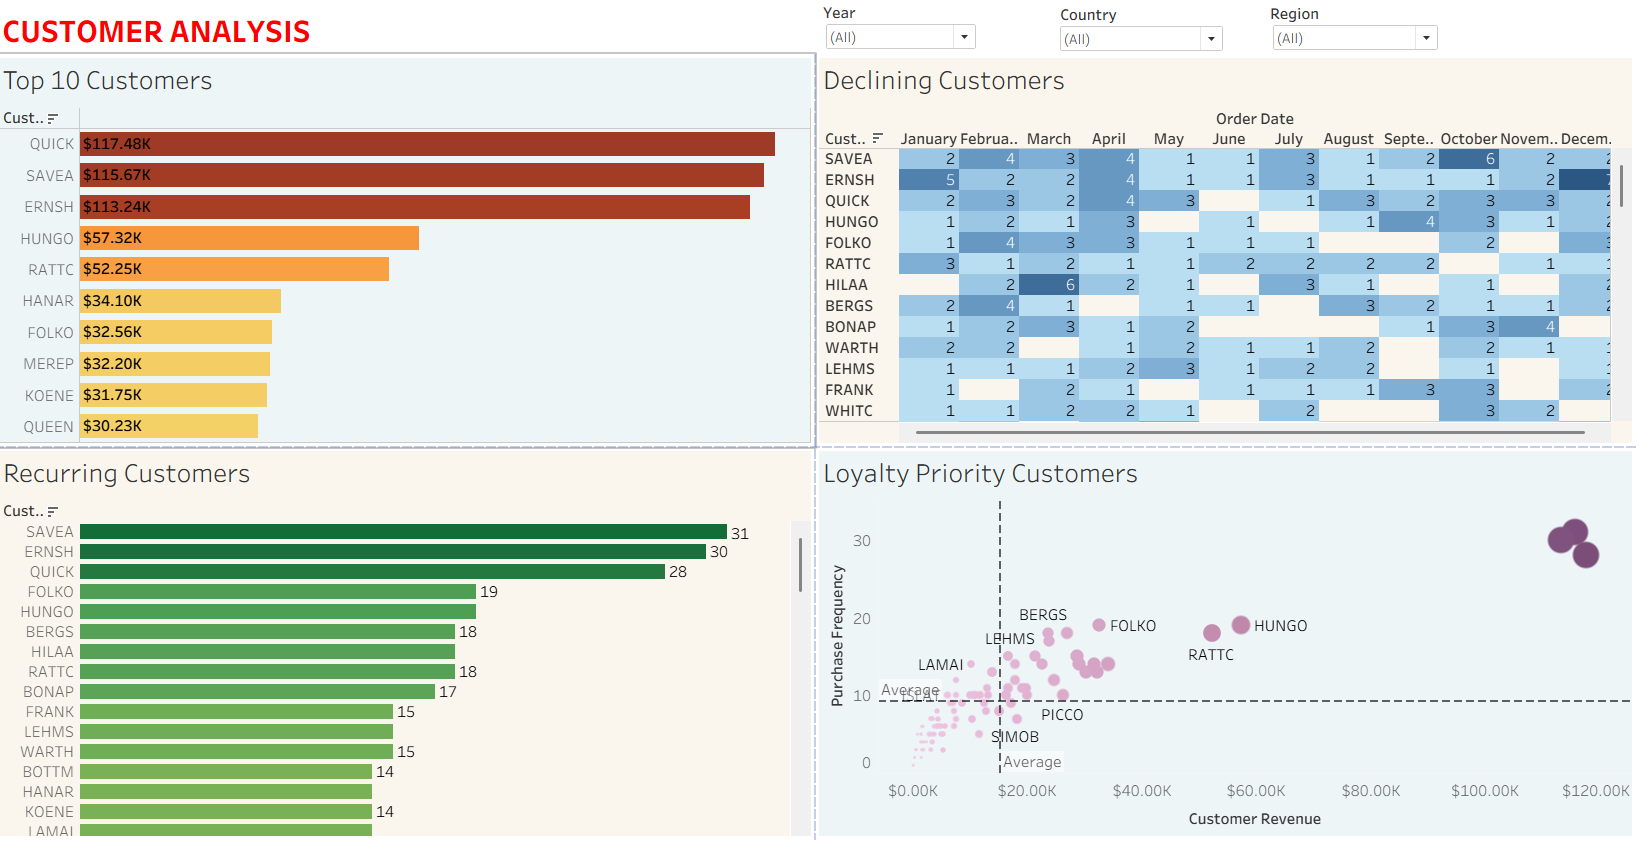

The dashboard page shown, as its layout file describes it:
{"tool":"tableau","page":{"name":"Customer Analysis","canvas":[1000,1000],"units":"permille","ordinal":0},"visuals":[{"type":"filter","title":"Top 10 Customers","param":"[federated.0fuxvor0l2khf1164kcrc0bxxkrn].[yr:order_date:ok]","box":[504.5,5.9,94.2,56.4]},{"type":"filter","title":"Loyalty Priority Customers","param":"[federated.0fuxvor0l2khf1164kcrc0bxxkrn].[none:ship_region:nk]","box":[774.3,7,103.2,56.4]},{"type":"filter","title":"Recurring Customers","param":"[federated.0fuxvor0l2khf1164kcrc0bxxkrn].[none:ship_country:nk]","box":[645.8,8.2,102,56.4]},{"type":"title","box":[4.8,9.4,990.3,57.6]},{"type":"worksheet","title":"Top 10 Customers","mark":"Bar","rows":["customer_id"],"cols":["vtsum","vtsum"],"box":[4.8,67,495.1,461.8]},{"type":"worksheet","title":"Declining Customers","mark":"Square","rows":["customer_id"],"cols":["order_date"],"box":[500,67,495.2,461.8]},{"type":"worksheet","title":"Recurring Customers","mark":"Automatic","rows":["customer_id"],"cols":["vtnone"],"box":[4.8,528.8,495.1,461.8]},{"type":"worksheet","title":"Loyalty Priority Customers","mark":"Circle","rows":["vtnone"],"cols":["vtsum"],"box":[500,528.8,495.2,461.8]}]}

Visuals, with their boxes on the dashboard's canvas, which has no fixed pixel size, in thousandths of its width and height (x1, y1, x2, y2). These are canvas units, not pixel positions in the 1642x841 screenshot, which may show the page scaled, cropped or inside an application window:
"Top 10 Customers" filter: <region>504, 6, 599, 62</region>
"Loyalty Priority Customers" filter: <region>774, 7, 878, 63</region>
"Recurring Customers" filter: <region>646, 8, 748, 65</region>
title: <region>5, 9, 995, 67</region>
"Top 10 Customers" worksheet (Bar marks): <region>5, 67, 500, 529</region>
"Declining Customers" worksheet (Square marks): <region>500, 67, 995, 529</region>
"Recurring Customers" worksheet: <region>5, 529, 500, 991</region>
"Loyalty Priority Customers" worksheet (Circle marks): <region>500, 529, 995, 991</region>
